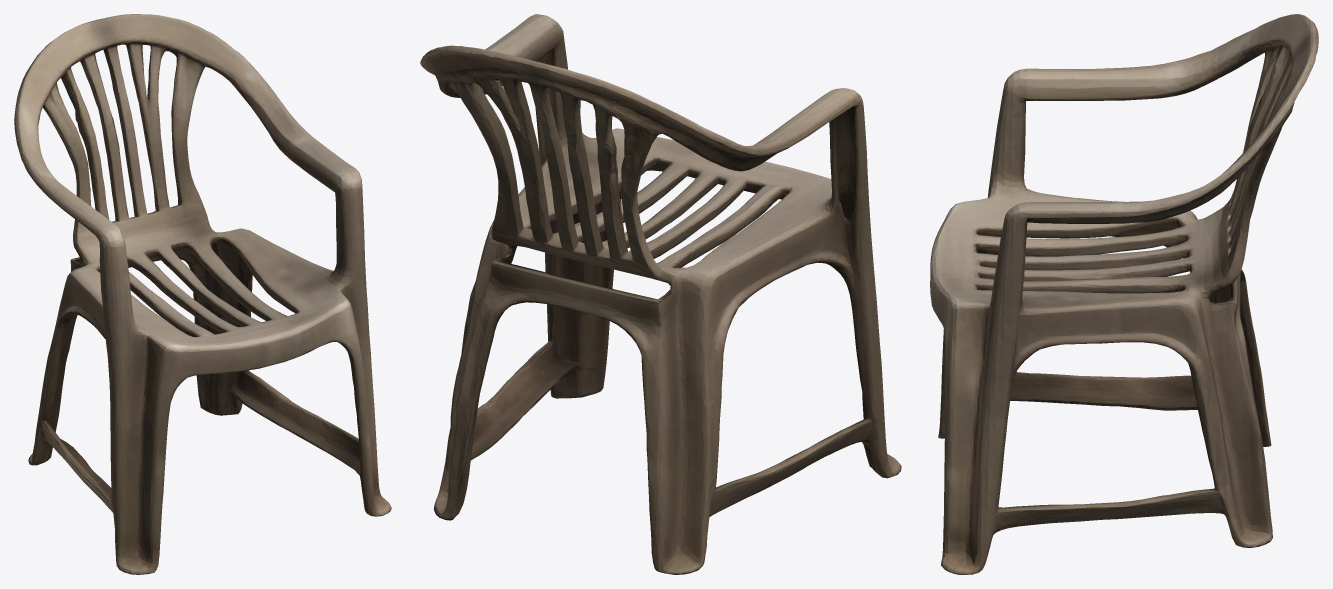
File: outdoor_chair.glb
3 renders of one model, left to right at view 1: azimuth 30°, elevation 25°; view 2: azimuth 150°, elevation 25°; view 3: azimuth 270°, elevation 25°, orthographic. The views are drawn at different scales.
Parts seen in each view (by area): view 1: geometry_0; view 2: geometry_0; view 3: geometry_0.
Boxes of the visible parts, bbox=[...] form: geometry_0: bbox=[14, 14, 391, 574]; geometry_0: bbox=[420, 14, 901, 574]; geometry_0: bbox=[930, 14, 1318, 574].
Size of the model in its own units: 0.6954 by 1 by 0.7622.
1 material, 1 textured.
